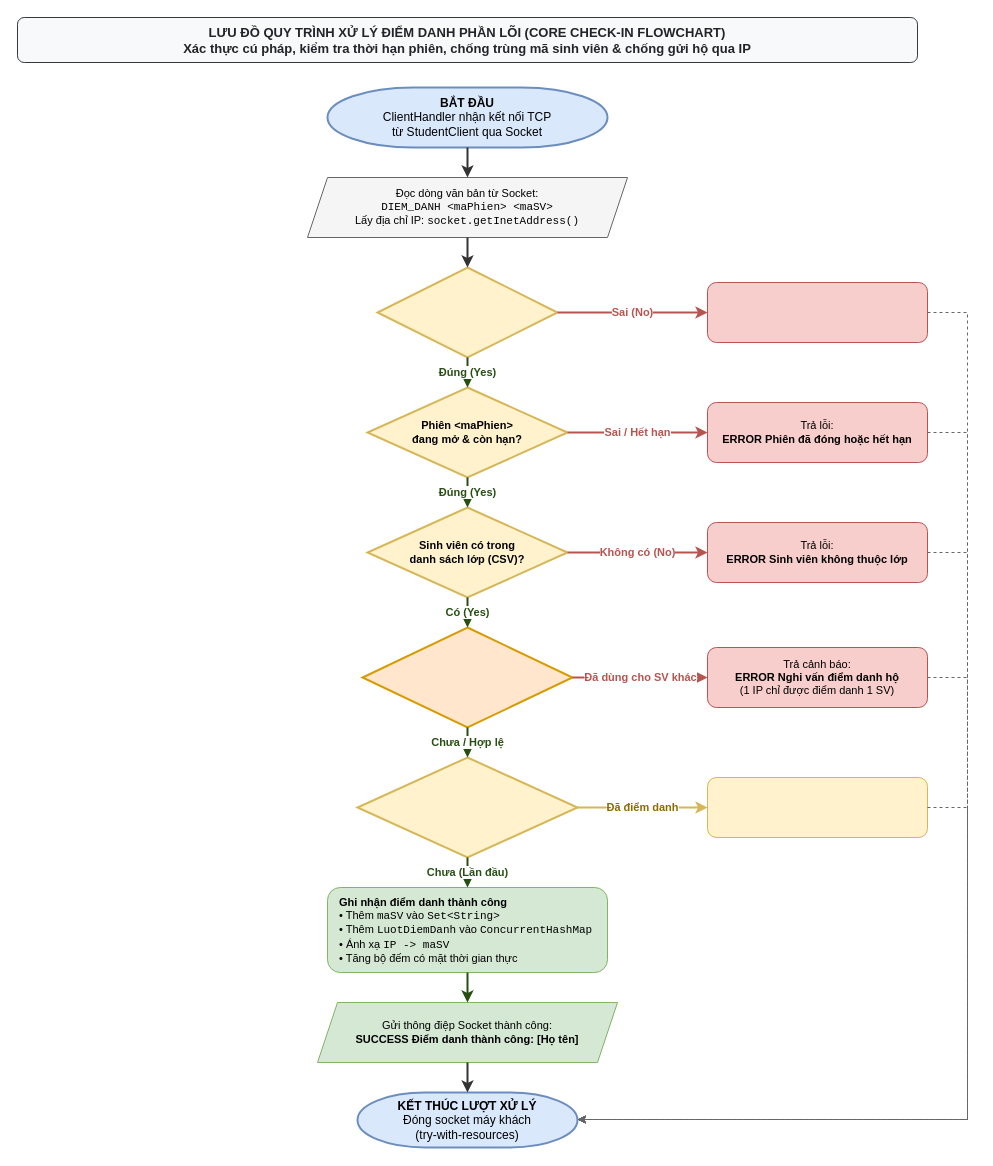
Some shapes in this 993 by 1166 pixel diagram are drawn without their labels. Each missing label, with the centre of its shape:
[Chống gửi hộ] IP này đã dùng cho mã SV khác chưa?: [467,677]
Cú pháp lệnh hợp lệ?: [467,312]
Sinh viên này đã điểm danh chưa? setCoMat.contains(maSV): [467,807]
Trả lỗi: ERROR Cú pháp không hợp lệ: [817,312]
Trả thông báo: ALREADY Sinh viên đã điểm danh rồi: [817,807]
